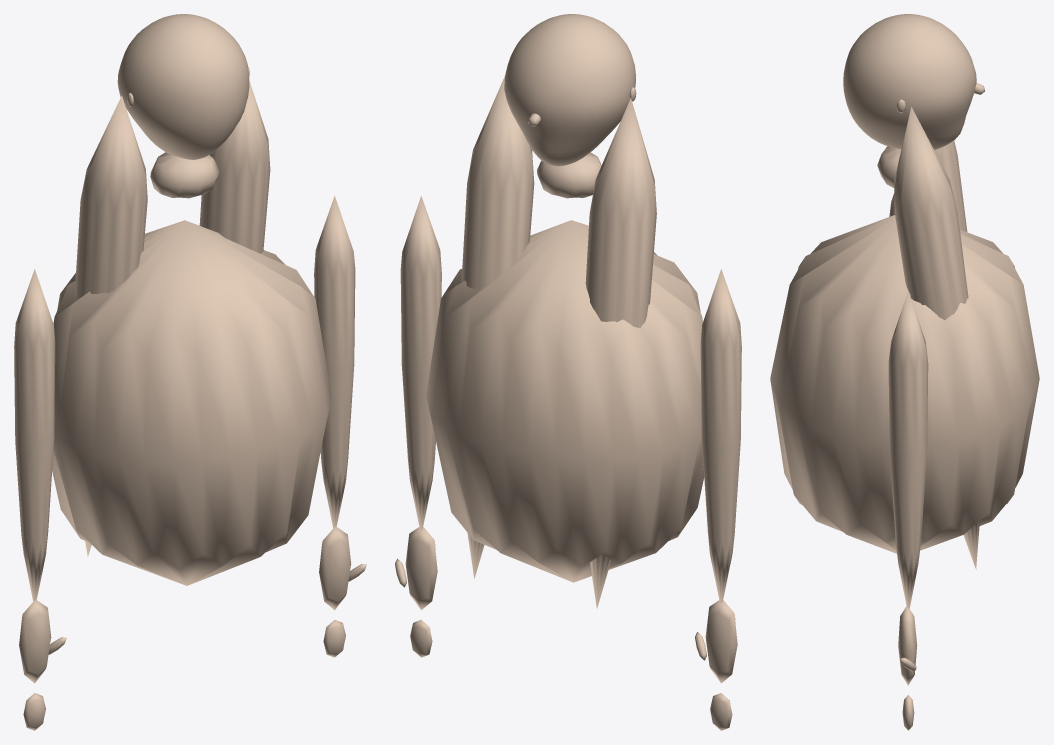
File: npc_trader.glb
The picture shows the model from 3 angles, left to right: view 1: azimuth 30°, elevation 25°; view 2: azimuth 150°, elevation 25°; view 3: azimuth 270°, elevation 25°; orthographic projection. The views are drawn at different scales.
Parts seen in each view (by area): view 1: npc_trader; view 2: npc_trader; view 3: npc_trader.
Boxes of the visible parts, bbox=[...] form: npc_trader: bbox=[14, 14, 366, 730]; npc_trader: bbox=[395, 14, 741, 730]; npc_trader: bbox=[770, 14, 1039, 730].
Size of the model in its own units: 0.5868 by 1.1 by 0.4167.
